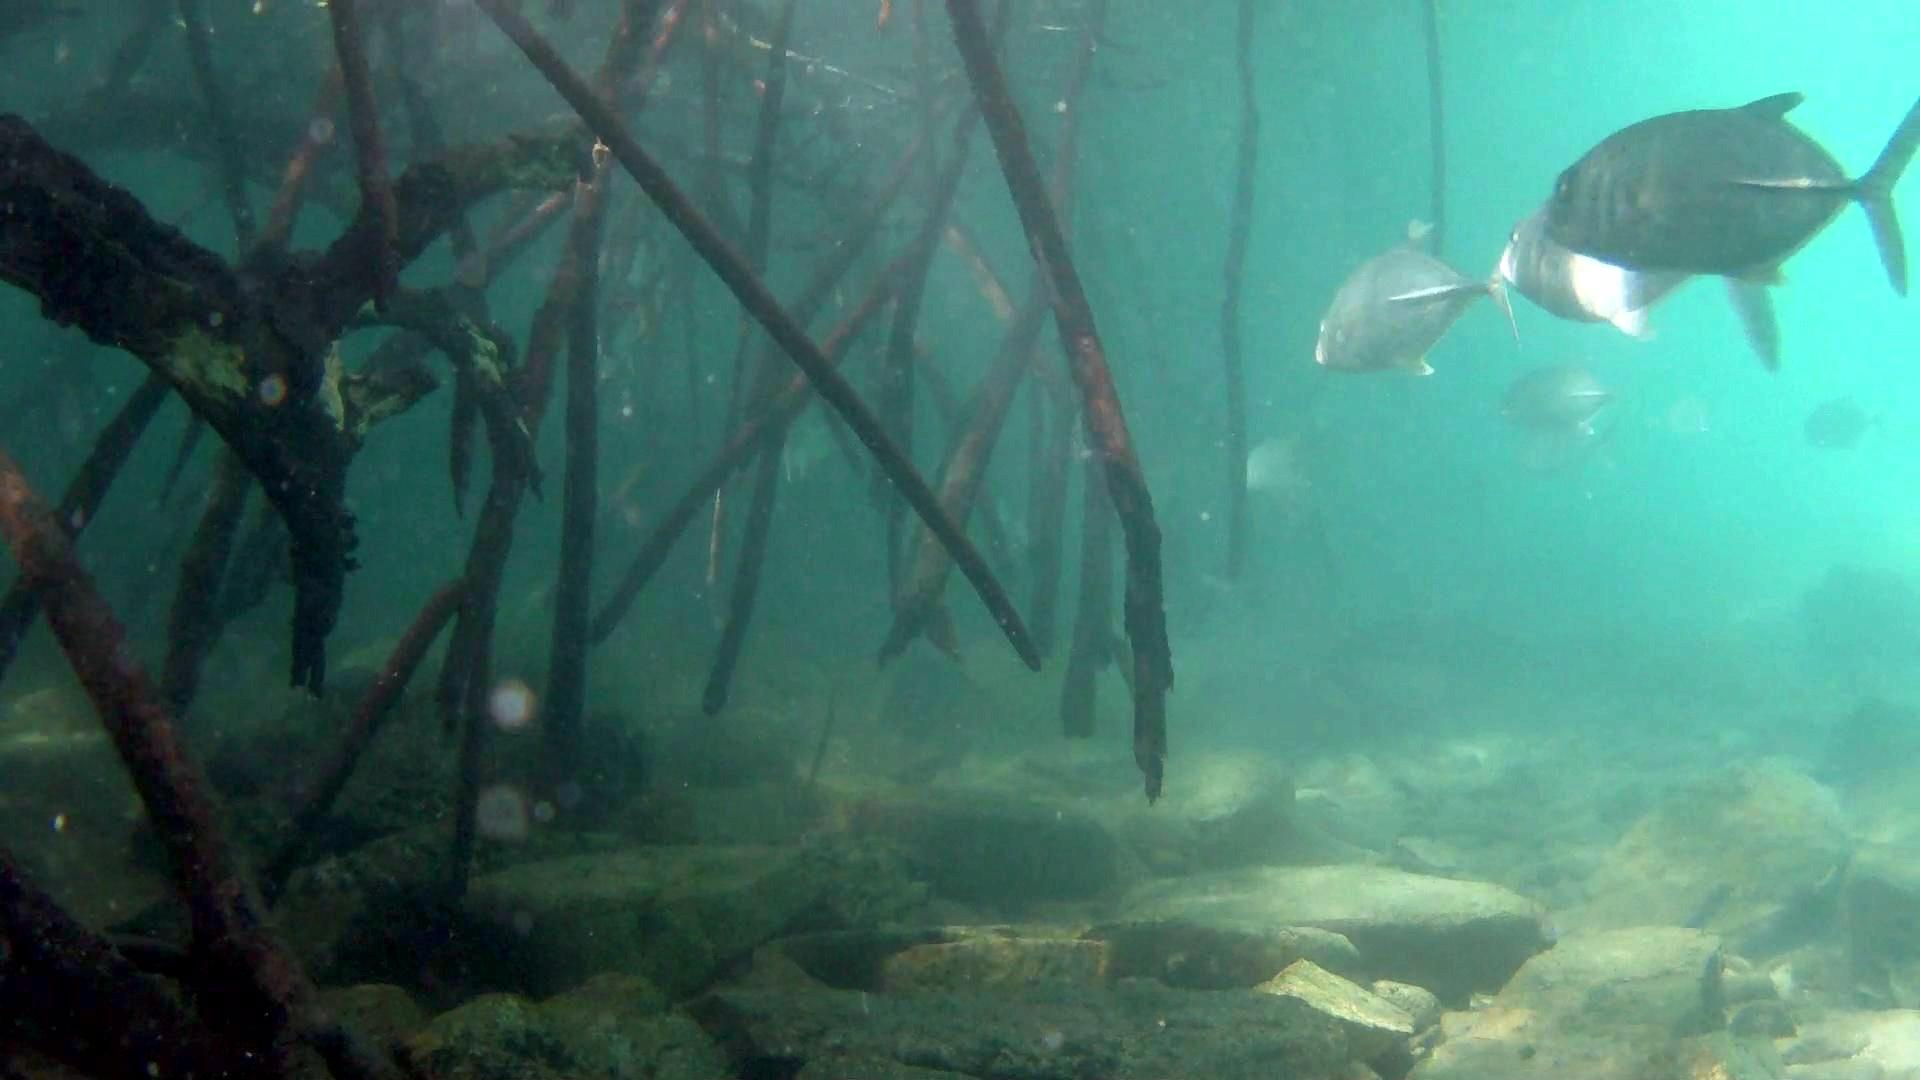caranx: (1528, 65, 1920, 298), (1299, 218, 1535, 388)
